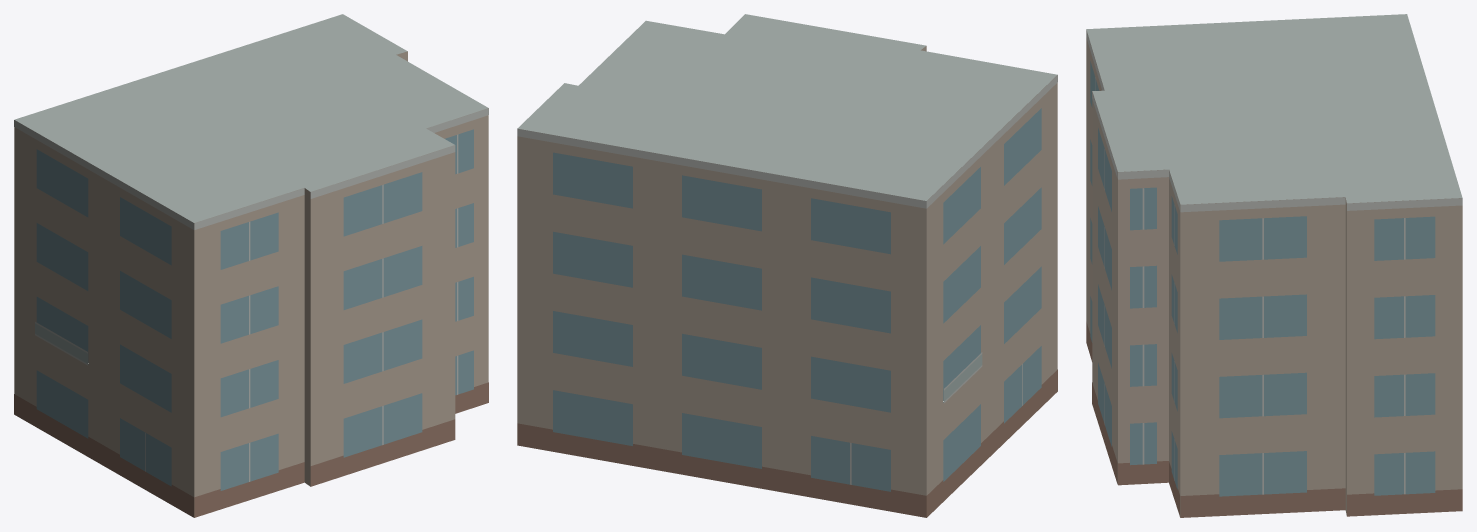
File: survey-upis-32890103.glb
3 views of the same model, side by side, from view 1: azimuth 30°, elevation 25°; view 2: azimuth 150°, elevation 25°; view 3: azimuth 270°, elevation 25° (orthographic). The views are drawn at different scales.
Parts seen in each view (by area): view 1: survey-upis-32890103.tmp; view 2: survey-upis-32890103.tmp; view 3: survey-upis-32890103.tmp.
Part boxes in pixels (left/top/right/bottom): survey-upis-32890103.tmp: left=14, top=14, right=488, bottom=517; survey-upis-32890103.tmp: left=517, top=14, right=1057, bottom=517; survey-upis-32890103.tmp: left=1086, top=14, right=1462, bottom=517.
Bounding box in the file's own units: 13.2 × 10.1 × 11.01.
